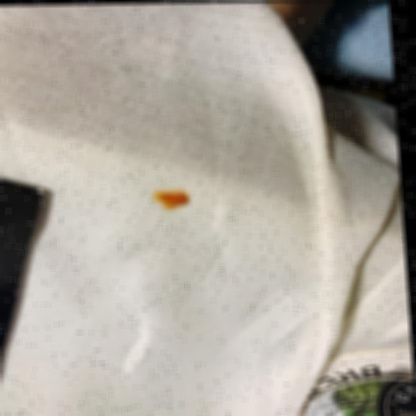kimchi: (147, 187, 191, 213)
